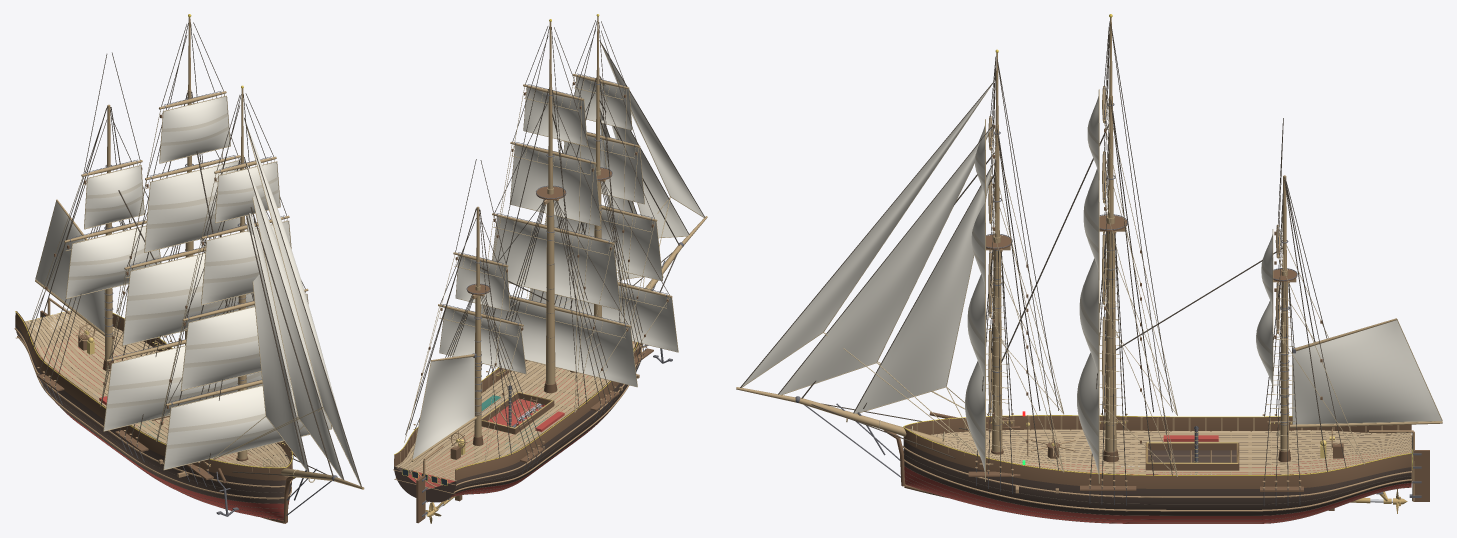
File: sailing_ship.glb
The picture shows the model from 3 angles, left to right: view 1: azimuth 30°, elevation 25°; view 2: azimuth 150°, elevation 25°; view 3: azimuth 270°, elevation 25°; orthographic projection. The views are drawn at different scales.
Visible parts, largest first — view 1: Fore_Course_Sail, Main_Topsail_Sail, Outer_Jib_Sail, Main_Course_Sail, Hull_Topsides_Planking, Main_Topgallant_Sail, Inner_Jib_Sail, Fore_Topsail_Sail, Mizzen_Topsail_Sail, Flying_Jib_Sail, Deck_Planks_B, Deck_Planks_A (+23 smaller); view 2: Main_Topsail_Sail, Main_Course_Sail, Main_Topgallant_Sail, Spanker_Sail, Deck_Planks_B, Fore_Course_Sail, Deck_Planks_A, Fore_Topsail_Sail, Mizzen_Topsail_Sail, Hull_Topsides_Planking, Fore_Topgallant_Sail, Main_Royal_Sail (+28 smaller); view 3: Hull_Topsides_Planking, Spanker_Sail, Outer_Jib_Sail, Inner_Jib_Sail, Deck_Planks_A, Deck_Planks_B, Bulwark_Stbd, Flying_Jib_Sail, Hull_Bottom_Antifouling, Bulwark_Port, Hull_Plank_Seams, Main_Lower_Mast (+15 smaller).
Part boxes in pixels (bbox=[...]): Fore_Course_Sail: bbox=[164, 380, 331, 469]; Main_Topsail_Sail: bbox=[123, 253, 254, 345]; Outer_Jib_Sail: bbox=[246, 164, 343, 479]; Main_Course_Sail: bbox=[104, 346, 262, 430]; Hull_Topsides_Planking: bbox=[15, 323, 291, 503]; Main_Topgallant_Sail: bbox=[145, 161, 244, 251]; Inner_Jib_Sail: bbox=[247, 213, 308, 471]; Fore_Topsail_Sail: bbox=[181, 294, 307, 390]; Mizzen_Topsail_Sail: bbox=[66, 226, 160, 298]; Flying_Jib_Sail: bbox=[248, 129, 359, 483]; Deck_Planks_B: bbox=[25, 310, 289, 467]; Deck_Planks_A: bbox=[27, 310, 288, 467]; Main_Topsail_Sail: bbox=[492, 216, 620, 309]; Main_Course_Sail: bbox=[481, 299, 637, 386]; Main_Topgallant_Sail: bbox=[510, 145, 600, 226]; Spanker_Sail: bbox=[412, 357, 474, 458]; Deck_Planks_B: bbox=[394, 341, 633, 480]; Fore_Course_Sail: bbox=[529, 285, 677, 351]; Deck_Planks_A: bbox=[397, 342, 636, 480]; Fore_Topsail_Sail: bbox=[546, 209, 662, 280]; Mizzen_Topsail_Sail: bbox=[439, 308, 525, 373]; Hull_Topsides_Planking: bbox=[395, 344, 641, 494]; Fore_Topgallant_Sail: bbox=[564, 135, 644, 203]; Main_Royal_Sail: bbox=[523, 87, 586, 145]; Hull_Topsides_Planking: bbox=[903, 431, 1411, 515]; Spanker_Sail: bbox=[1293, 320, 1441, 424]; Outer_Jib_Sail: bbox=[779, 128, 991, 394]; Inner_Jib_Sail: bbox=[854, 167, 991, 413]; Deck_Planks_A: bbox=[931, 429, 1411, 474]; Deck_Planks_B: bbox=[931, 431, 1411, 474]; Bulwark_Stbd: bbox=[903, 428, 1411, 488]; Flying_Jib_Sail: bbox=[742, 87, 989, 386]; Hull_Bottom_Antifouling: bbox=[904, 452, 1411, 523]; Bulwark_Port: bbox=[904, 415, 1411, 434]; Hull_Plank_Seams: bbox=[904, 454, 1411, 523]; Main_Lower_Mast: bbox=[1105, 216, 1116, 473].
Size of the model in its own units: 17.06 by 41.53 by 52.85.
